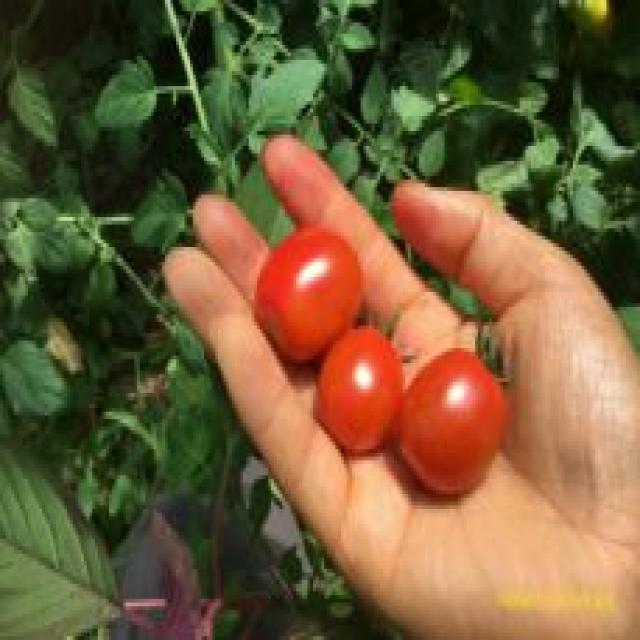level 6: (384, 323, 519, 535), (246, 210, 366, 368), (299, 323, 408, 478)
